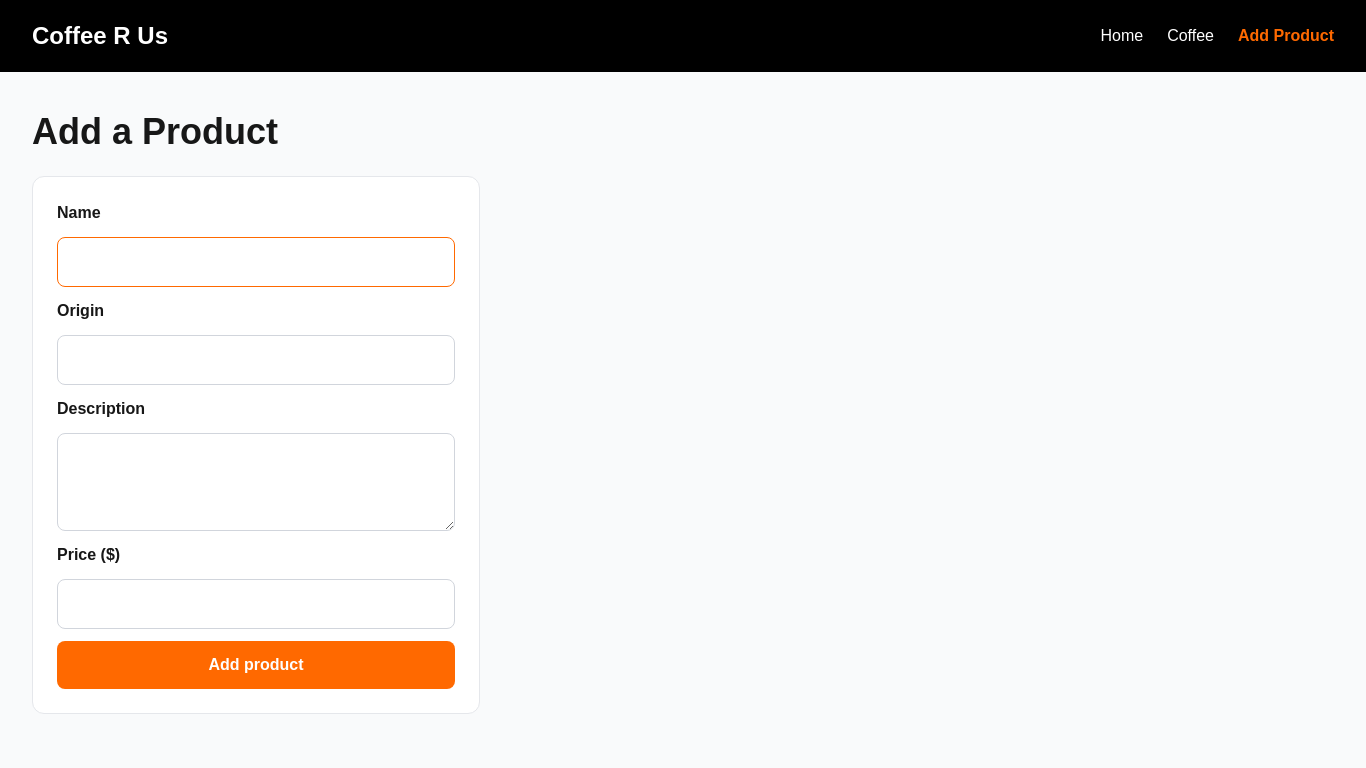
Test: the add form rejects a missing field
Click the button "Add product".
click(256, 665)  # box [57,641,455,689]
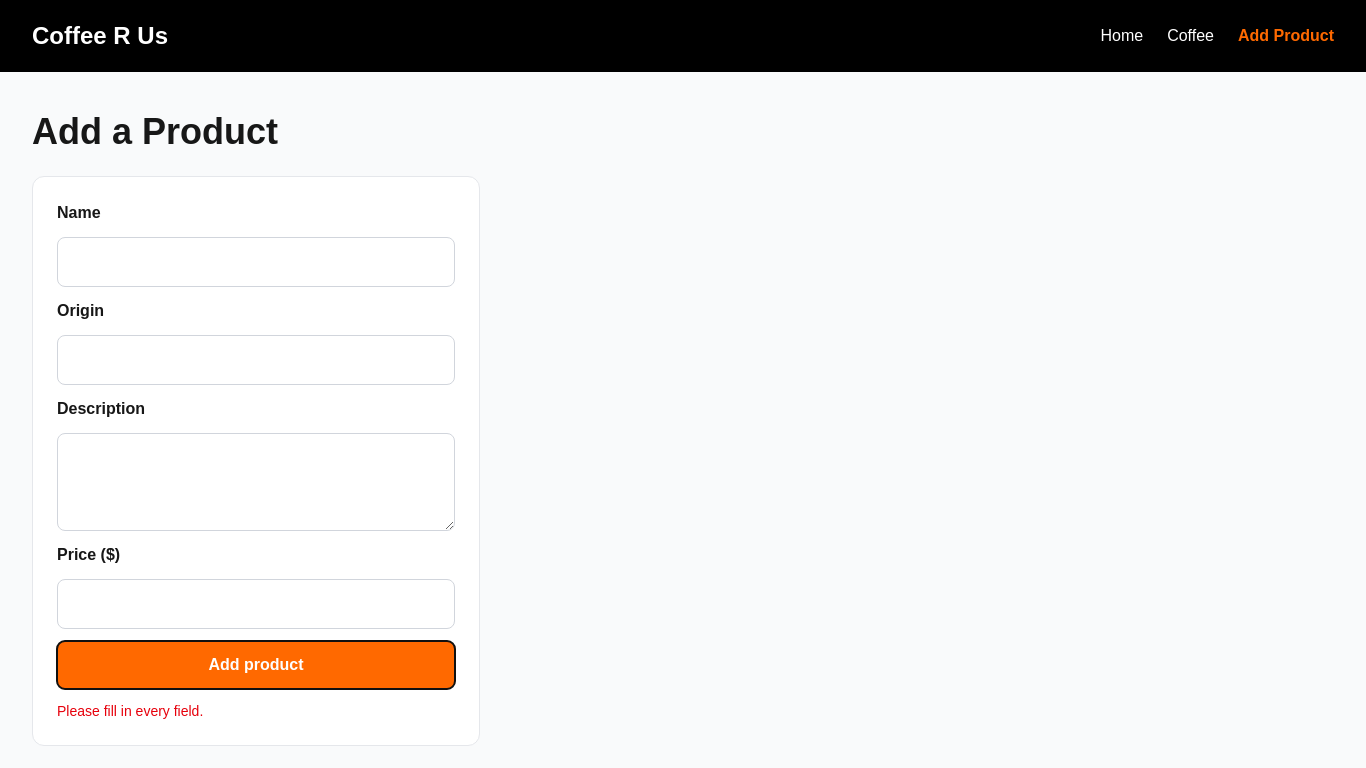
Check: the message reads "Please fill in every field.", box [57,703,203,719]
